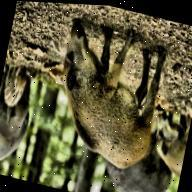boar: (38, 11, 179, 173)
